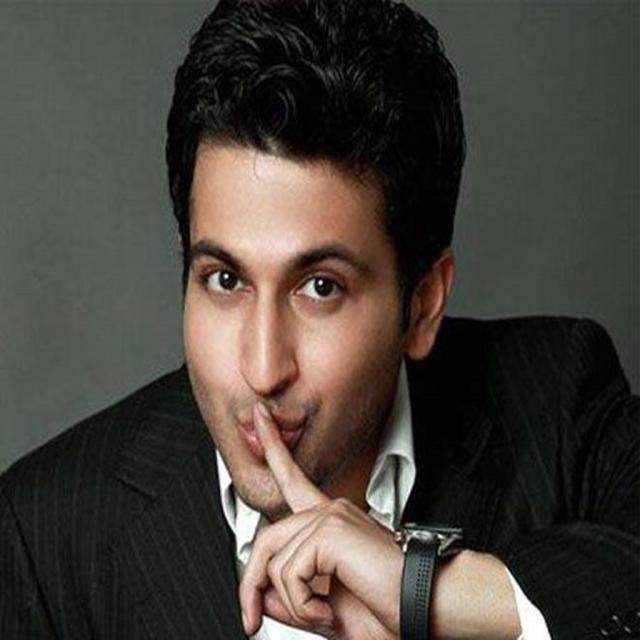nomask: (186, 137, 412, 503)
